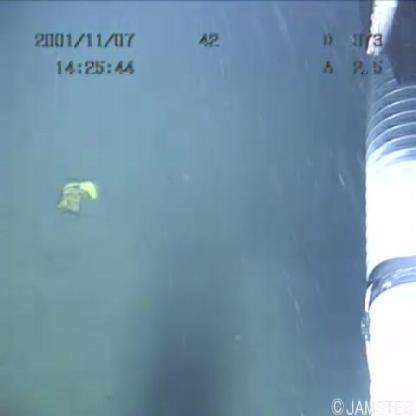Rov: (359, 1, 416, 414)
Rác: (56, 175, 102, 223)
